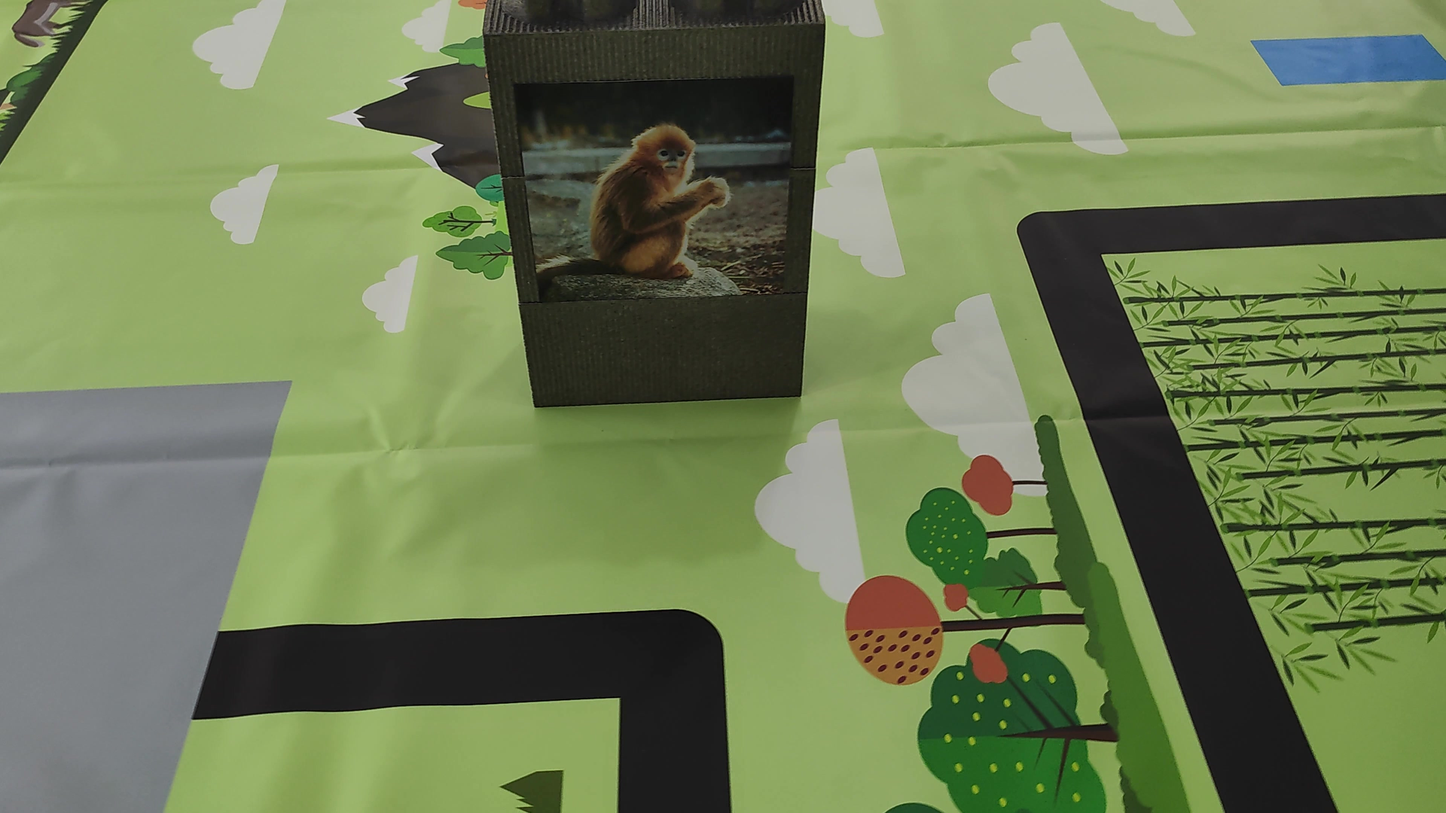monkey: (543, 84, 773, 318)
